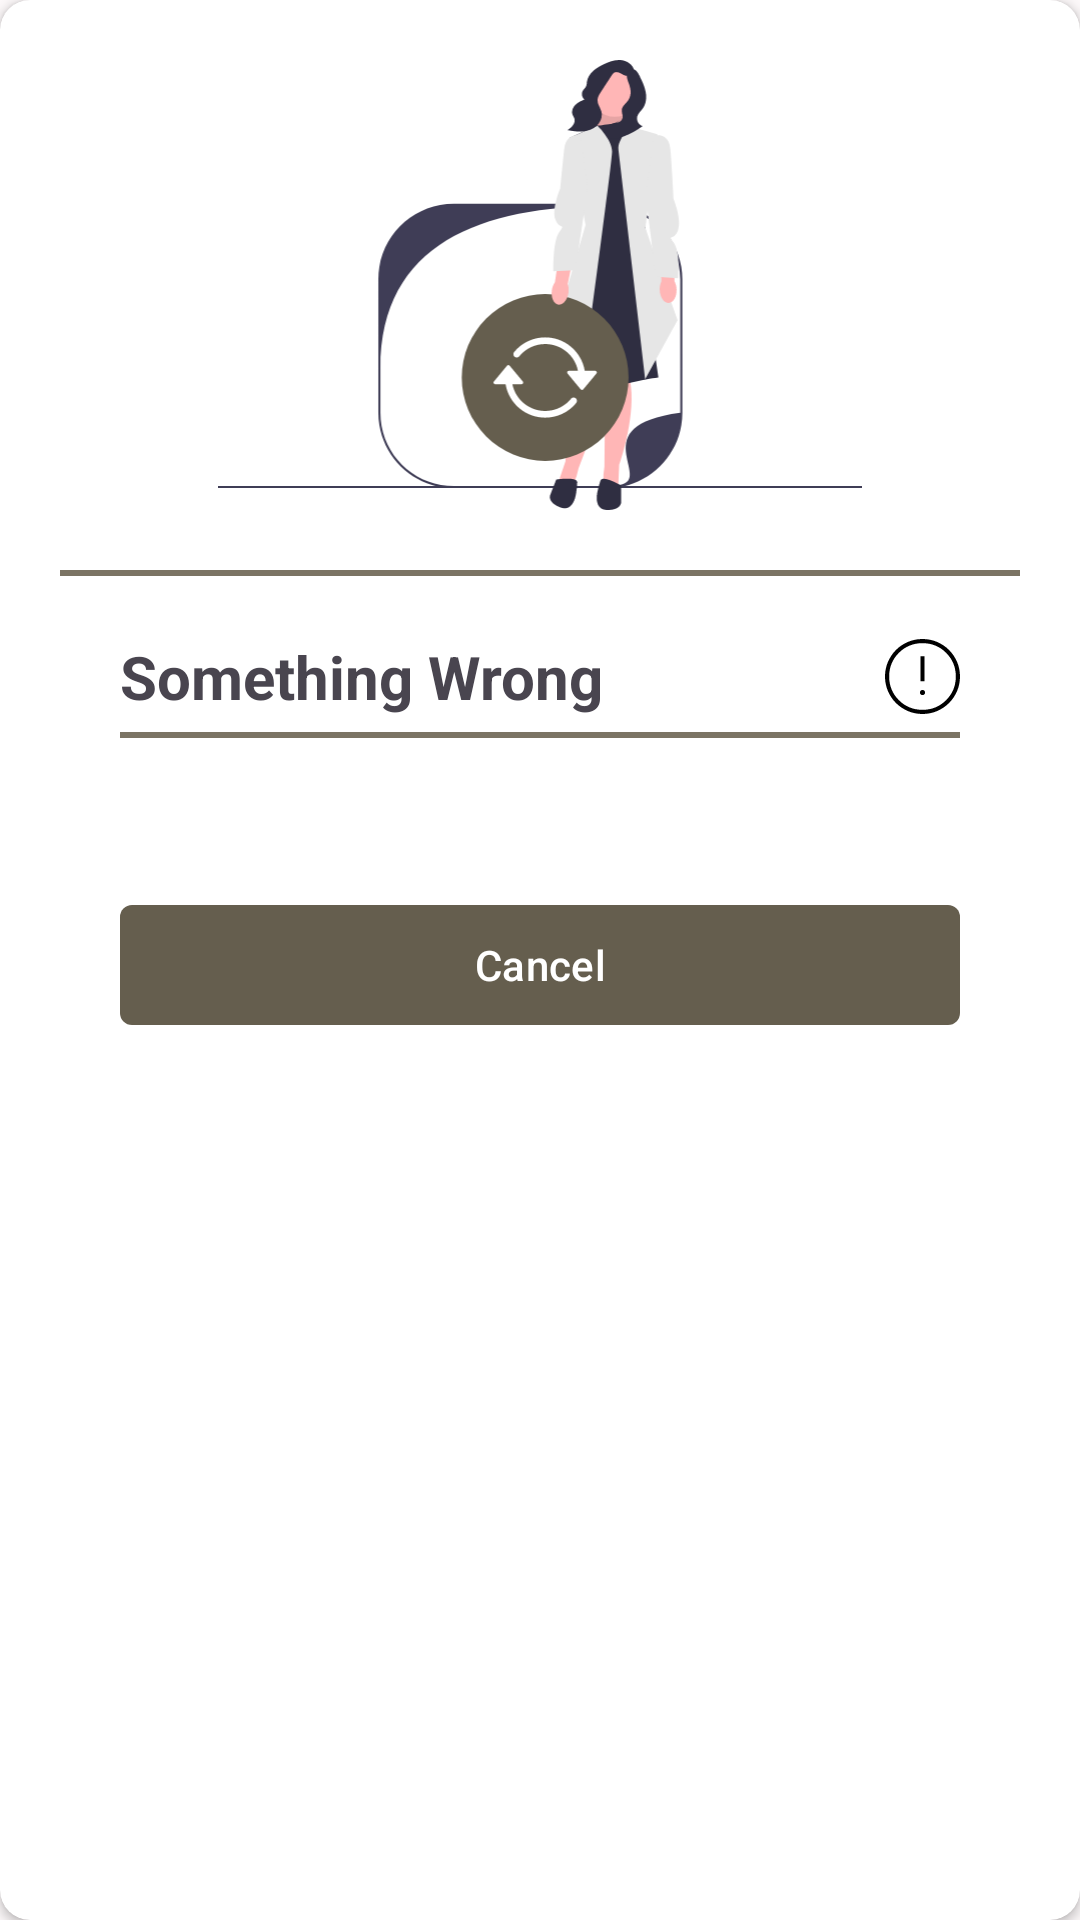

Icon bounding boxes for this 1080w x 1920h phone screenshot, format box(x1, y1, x2, y2):
caution: box(885, 639, 960, 714)
